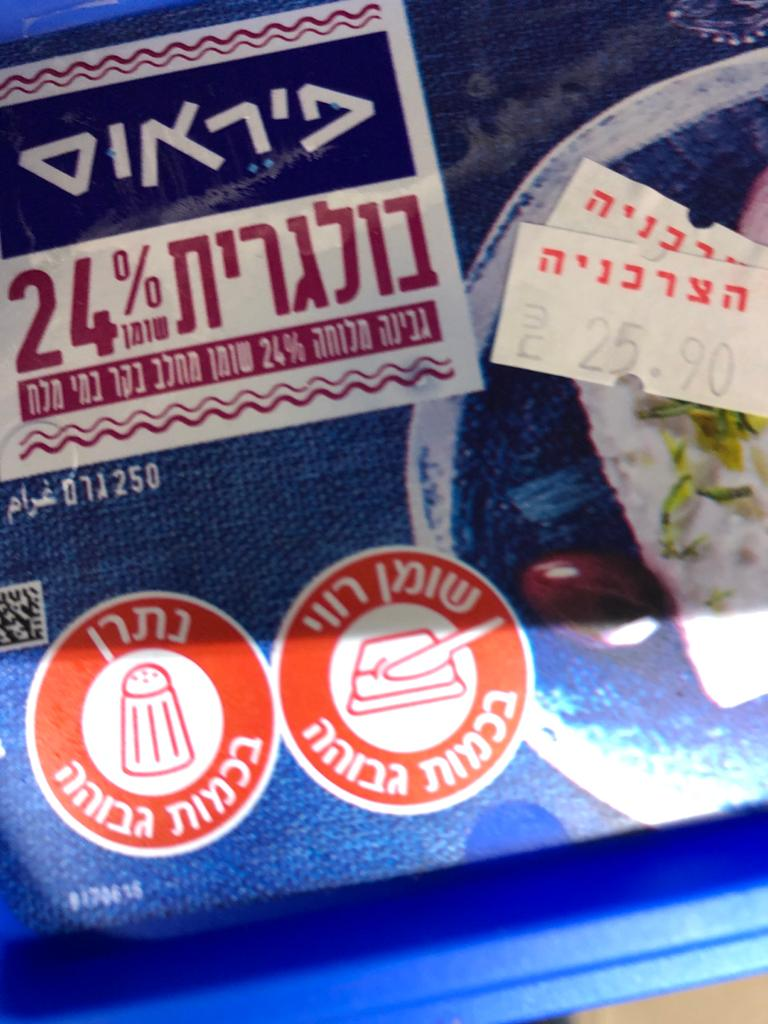fat: (269, 547, 537, 818)
salt: (21, 594, 278, 853)
